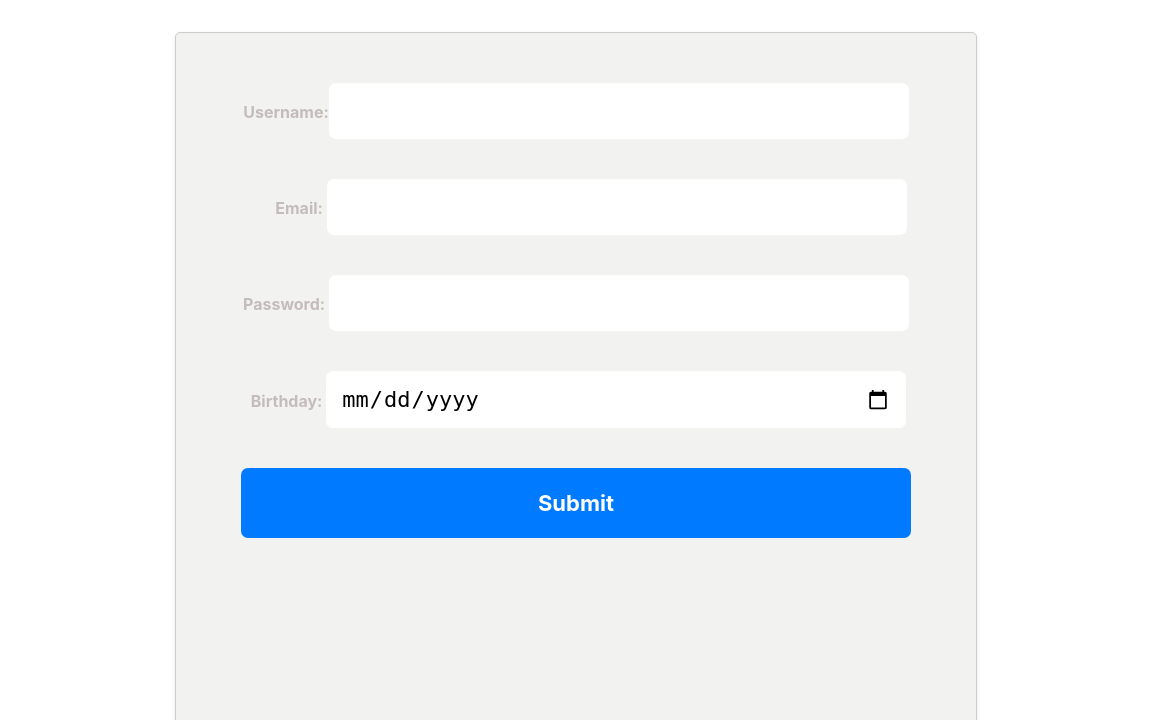
Registration Form › should validate the form fields
Click the submit button at (576, 503), box [241,468,911,538]
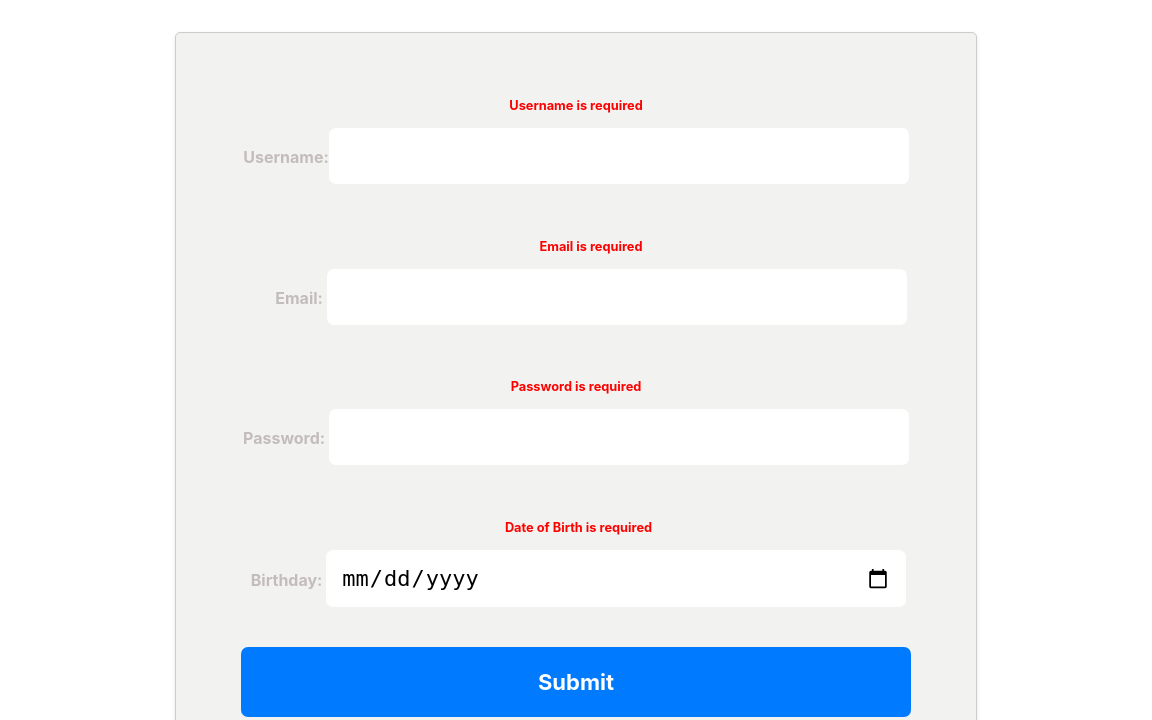
Check: the text with class "error" reads "Username is required", box [509,98,642,113]
Check: the text with class "error" reads "Email is required", box [539,239,642,254]
Check: the text with class "error" reads "Password is required", box [511,379,642,394]
